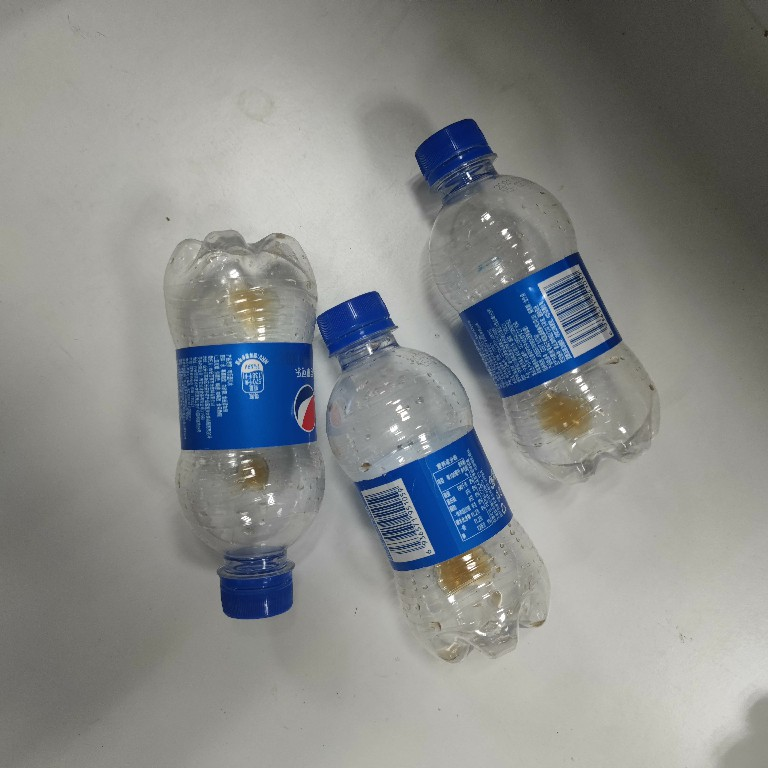bottle: (411, 114, 666, 487), (311, 284, 556, 669), (157, 224, 331, 625)
